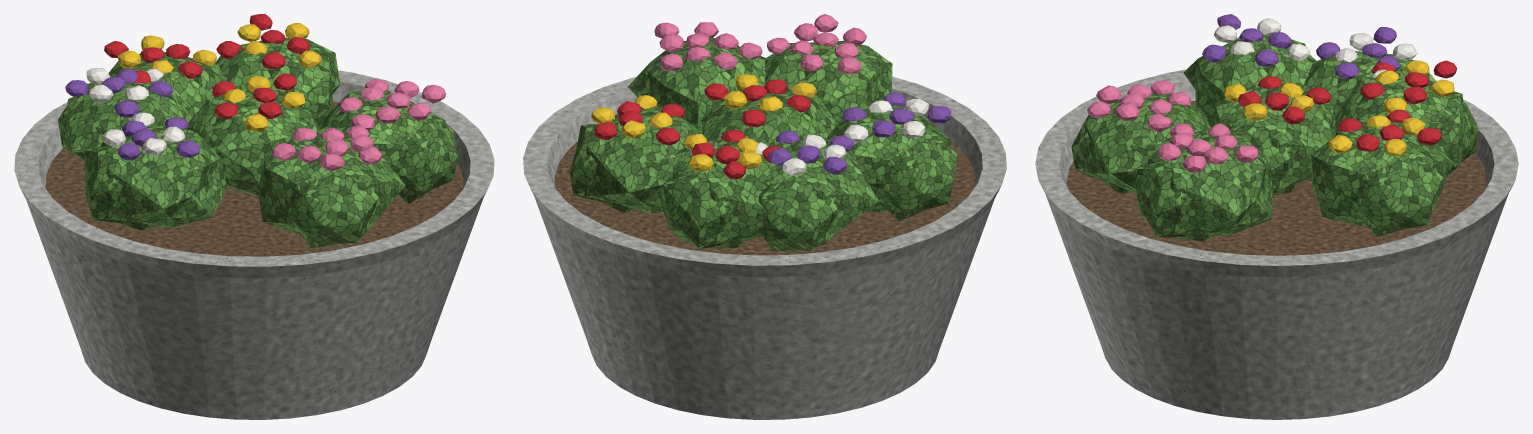
3 renders of one model, left to right at view 1: azimuth 30°, elevation 25°; view 2: azimuth 150°, elevation 25°; view 3: azimuth 270°, elevation 25°, orthographic.
Parts seen in each view (by area): view 1: baseOffset=0;diameter=1.2;height=0.5;material=concrete;power (×2), sezonsko-2 (×4), sezonsko-0 (×9), sezonsko-1 (×6); view 2: baseOffset=0;diameter=1.2;height=0.5;material=concrete;power (×2), sezonsko-0 (×9), sezonsko-1 (×6), sezonsko-2 (×4); view 3: baseOffset=0;diameter=1.2;height=0.5;material=concrete;power (×2), sezonsko-0 (×9), sezonsko-2 (×4), sezonsko-1 (×6).
Part boxes in pixels (box(x1,y1,x2,y2)): baseOffset=0;diameter=1.2;height=0.5;material=concrete;power (×2): box(14, 70, 494, 419); sezonsko-2 (×4): box(257, 78, 457, 247); sezonsko-0 (×9): box(104, 14, 340, 195); sezonsko-1 (×6): box(58, 68, 227, 230); baseOffset=0;diameter=1.2;height=0.5;material=concrete;power (×2): box(523, 76, 1006, 419); sezonsko-0 (×9): box(570, 74, 836, 248); sezonsko-1 (×6): box(755, 92, 957, 251); sezonsko-2 (×4): box(628, 14, 892, 133); baseOffset=0;diameter=1.2;height=0.5;material=concrete;power (×2): box(1035, 69, 1518, 419); sezonsko-0 (×9): box(1214, 60, 1478, 236); sezonsko-2 (×4): box(1071, 80, 1273, 241); sezonsko-1 (×6): box(1183, 14, 1436, 127).
Size of the model in its own units: 1.2 by 1.2 by 0.7074.
Materials: 8 (3 with a texture image).
